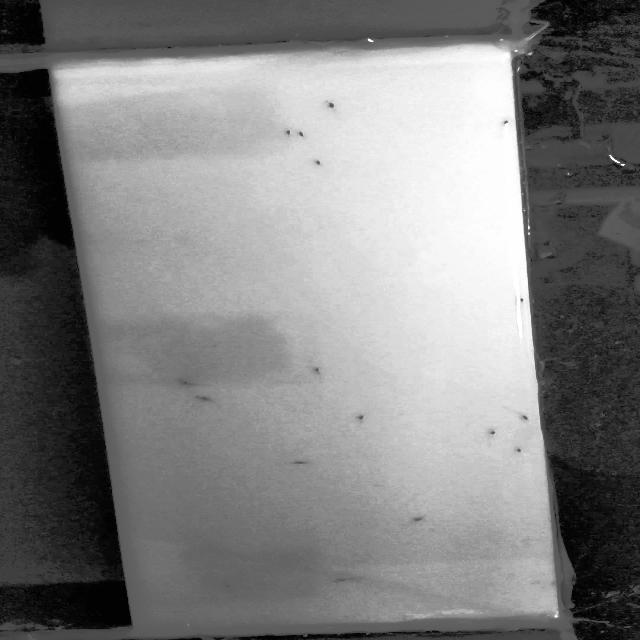shrimp: (402, 512, 441, 530), (300, 363, 335, 383), (211, 576, 242, 596), (303, 159, 335, 174), (312, 100, 345, 114), (281, 457, 317, 469), (169, 376, 202, 389), (274, 124, 298, 141), (505, 443, 529, 460), (326, 575, 359, 587), (348, 413, 378, 426), (293, 125, 314, 143), (190, 396, 218, 406), (481, 428, 501, 440), (515, 414, 534, 425)
